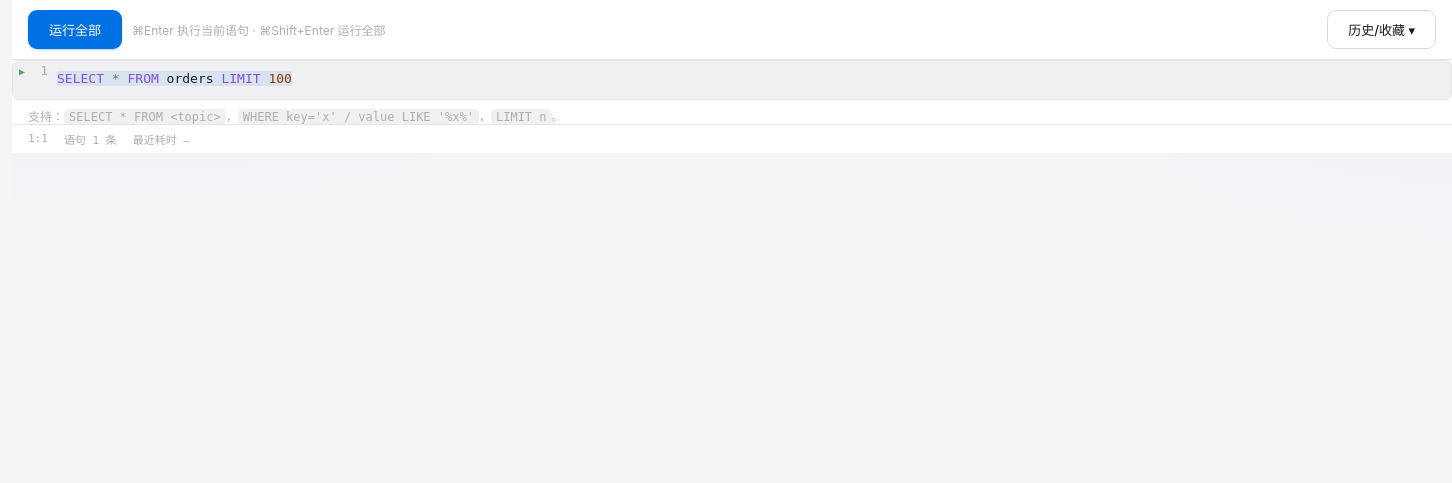
Scenario: SqlConsole › shows the empty guidance card with the shortcut hints when there are no results
The image size is (1452, 483).
Click the button with test id "btn-run". click: click(75, 30)
box: [28,10,122,49]
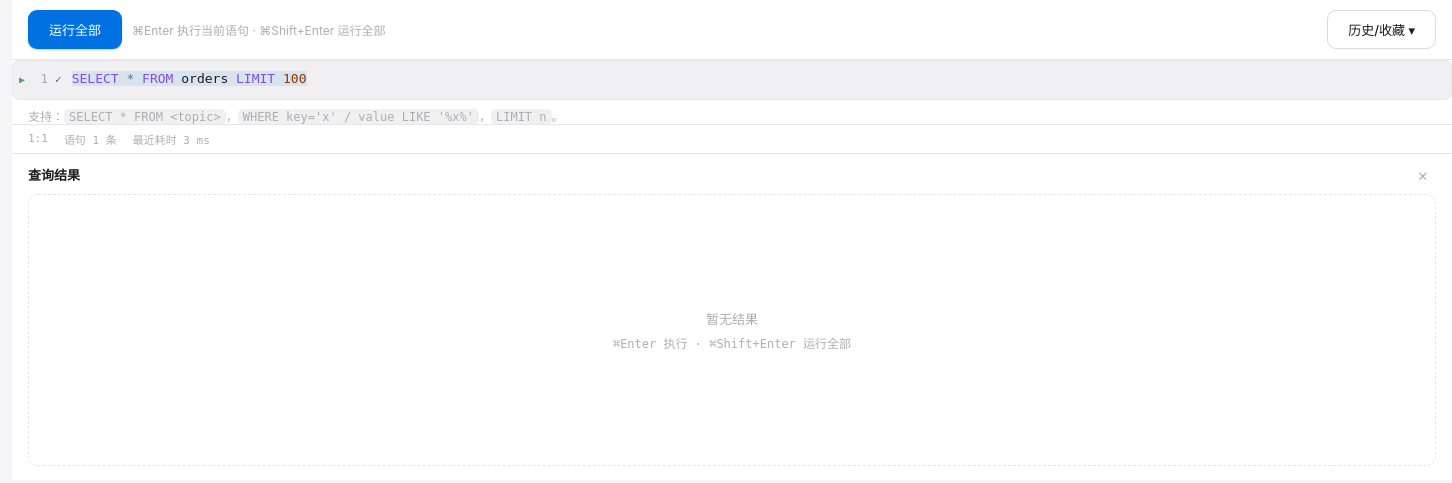
expect the element with test id "results-empty" is shown: met, box [28,194,1436,466]
expect the element with test id "results-empty" shows "⌘Enter 执行": met, box [613,336,851,350]
expect the element with test id "results-empty" shows "⌘Shift+Enter 运行全部": met, box [613,336,851,350]
